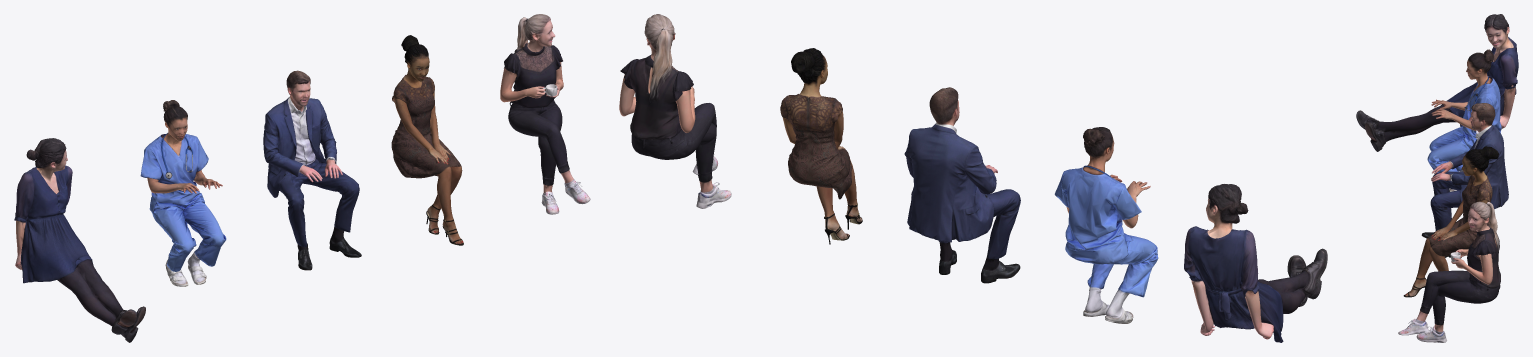
The model's file is people5s.glb.
3 views of the same model, side by side, from view 1: azimuth 30°, elevation 25°; view 2: azimuth 150°, elevation 25°; view 3: azimuth 270°, elevation 25° (orthographic). The views are drawn at different scales.
Parts seen in each view (by area): view 1: Sitting people x 5 11-001, Sitting people x 5 11-004_Sitting people x 5 11-004_0, Sitting people x 5 11-005_Sitting people x 5 11-005_0, Sitting people x 5 11-002, Sitting people x 5 11-003; view 2: Sitting people x 5 11-004_Sitting people x 5 11-004_0, Sitting people x 5 11-001, Sitting people x 5 11-005_Sitting people x 5 11-005_0, Sitting people x 5 11-002, Sitting people x 5 11-003; view 3: Sitting people x 5 11-002, Sitting people x 5 11-001, Sitting people x 5 11-004_Sitting people x 5 11-004_0, Sitting people x 5 11-003, Sitting people x 5 11-005_Sitting people x 5 11-005_0.
Boxes of the visible parts, x1,y1,x2,y2 form: Sitting people x 5 11-001: (14,138,145,342); Sitting people x 5 11-004_Sitting people x 5 11-004_0: (263,70,361,270); Sitting people x 5 11-005_Sitting people x 5 11-005_0: (140,100,226,286); Sitting people x 5 11-002: (500,14,590,214); Sitting people x 5 11-003: (391,35,463,245); Sitting people x 5 11-004_Sitting people x 5 11-004_0: (904,87,1020,283); Sitting people x 5 11-001: (1184,184,1327,342); Sitting people x 5 11-005_Sitting people x 5 11-005_0: (1054,127,1158,323); Sitting people x 5 11-002: (619,14,731,208); Sitting people x 5 11-003: (780,48,862,244); Sitting people x 5 11-002: (1398,201,1500,342); Sitting people x 5 11-001: (1356,14,1518,151); Sitting people x 5 11-004_Sitting people x 5 11-004_0: (1421,103,1508,257); Sitting people x 5 11-003: (1403,146,1498,297); Sitting people x 5 11-005_Sitting people x 5 11-005_0: (1427,49,1501,191).
Bounding box in the file's own units: 4.39 × 1.34 × 1.33.
5 materials, 5 textured.
